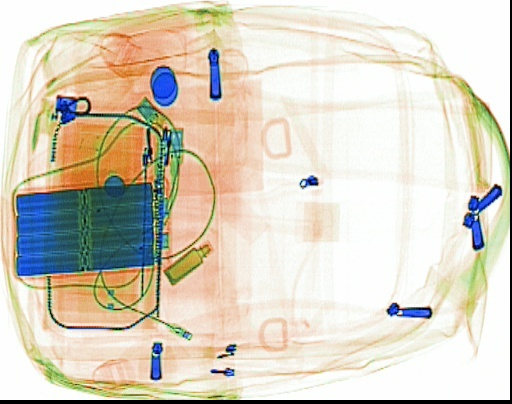powerbank: (12, 178, 158, 278)
